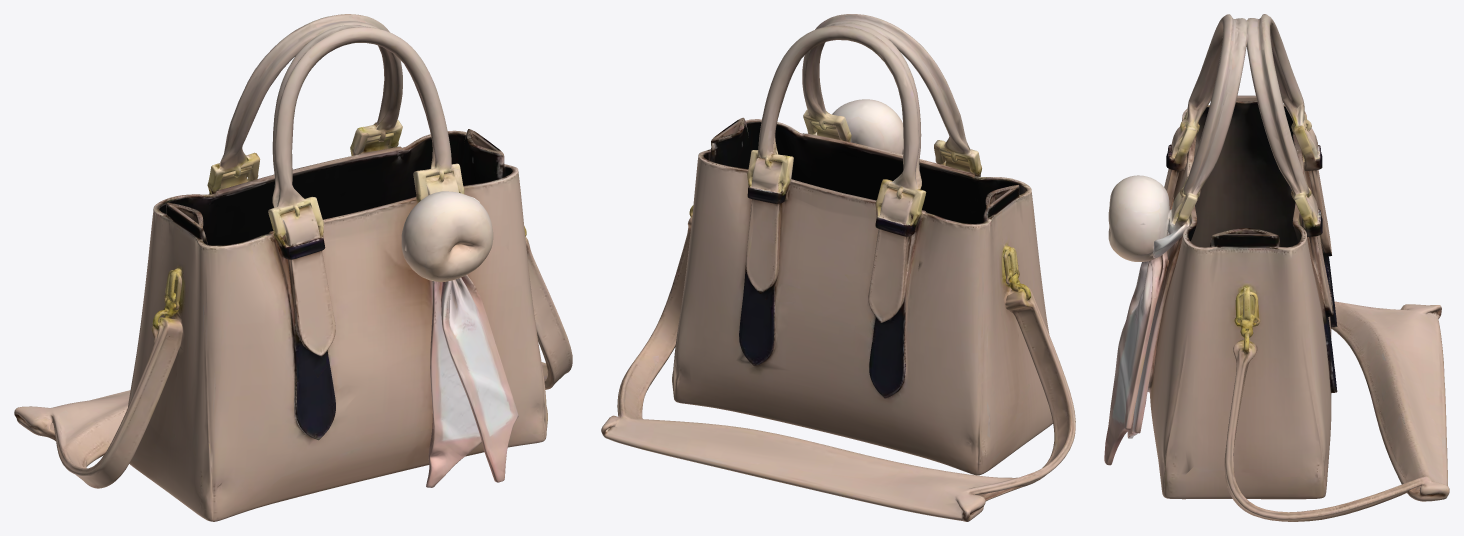
The model's file is tas4a-compressed.glb.
The picture shows the model from 3 angles, left to right: view 1: azimuth 30°, elevation 25°; view 2: azimuth 150°, elevation 25°; view 3: azimuth 270°, elevation 25°; orthographic projection. The views are drawn at different scales.
Parts seen in each view (by area): view 1: convert; view 2: convert; view 3: convert.
Boxes of the visible parts, x1=… form: convert: x1=14, y1=14, x2=572, y2=521; convert: x1=601, y1=14, x2=1075, y2=521; convert: x1=1104, y1=14, x2=1449, y2=521.
Size of the model in its own units: 0.8688 by 0.7584 by 0.5857.
1 material, 1 textured.
